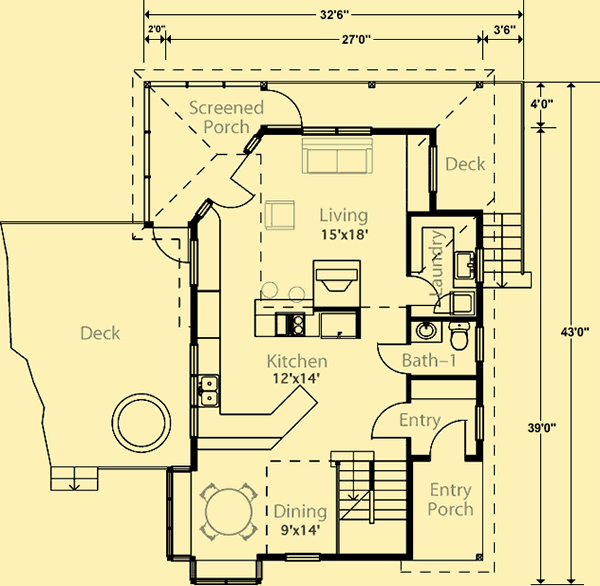door: (366, 400, 412, 443), (258, 87, 304, 129), (428, 417, 470, 461), (209, 178, 258, 210), (152, 225, 190, 264), (375, 342, 410, 378), (407, 273, 441, 309)
large_sofa: (298, 134, 374, 175)
round_table: (198, 480, 261, 542)
small_sofa: (262, 197, 297, 233)
stairs: (330, 448, 408, 555), (480, 209, 534, 288), (48, 464, 100, 496)
twin_sink: (195, 373, 220, 406)
window: (188, 342, 200, 435), (474, 405, 488, 444), (474, 325, 486, 363), (429, 146, 437, 195), (282, 554, 321, 562)
